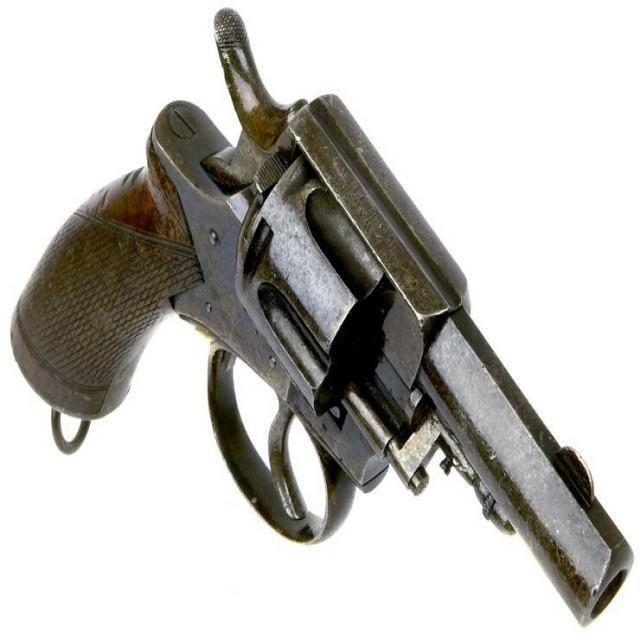gun-knife-thesis - v11 Yolov5 augmented: (13, 24, 633, 626)
